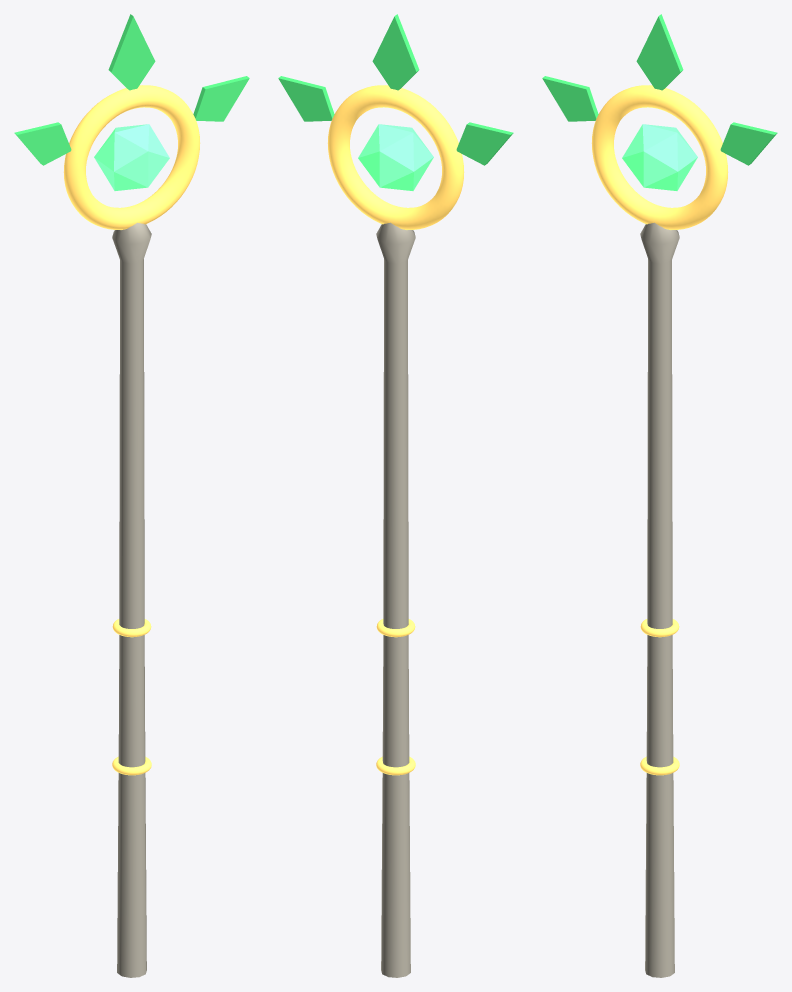
File: staff_of_life.glb
3 renders of one model, left to right at view 1: azimuth 30°, elevation 25°; view 2: azimuth 150°, elevation 25°; view 3: azimuth 330°, elevation 25°, orthographic.
Visible parts, largest first — view 1: sol_shaft, sol_ring, sol_gem, sol_leaf_top, sol_leaf_l, sol_leaf_r; view 2: sol_shaft, sol_ring, sol_gem, sol_leaf_top, sol_leaf_l, sol_leaf_r; view 3: sol_shaft, sol_ring, sol_gem, sol_leaf_top, sol_leaf_r, sol_leaf_l.
Boxes of the visible parts, x1,y1,x2,y2 form: sol_shaft: (112, 222, 151, 977); sol_ring: (63, 85, 200, 229); sol_gem: (94, 124, 169, 190); sol_leaf_top: (108, 14, 155, 90); sol_leaf_l: (193, 76, 249, 121); sol_leaf_r: (14, 122, 71, 165); sol_shaft: (376, 222, 415, 977); sol_ring: (327, 85, 464, 229); sol_gem: (358, 124, 433, 190); sol_leaf_top: (372, 14, 419, 90); sol_leaf_l: (278, 76, 334, 121); sol_leaf_r: (456, 122, 513, 165); sol_shaft: (640, 222, 679, 977); sol_ring: (591, 85, 728, 229); sol_gem: (622, 124, 697, 190); sol_leaf_top: (636, 14, 683, 90); sol_leaf_r: (542, 76, 598, 121); sol_leaf_l: (720, 122, 777, 165).
Size of the model in its own units: 0.5295 by 2.08 by 0.1276.
